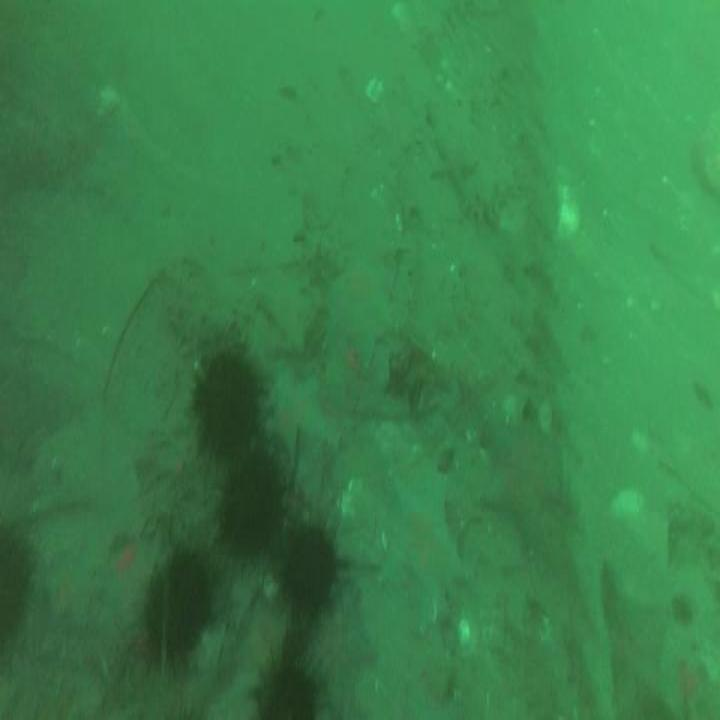echinus: (194, 348, 260, 454), (143, 550, 211, 652), (217, 448, 286, 548), (282, 522, 334, 610), (0, 530, 28, 642), (255, 668, 315, 720)
scallop: (551, 169, 582, 249), (365, 76, 384, 106)
starfish: (377, 480, 468, 633), (484, 410, 563, 556), (302, 578, 373, 718), (332, 255, 392, 365), (43, 558, 93, 630)
